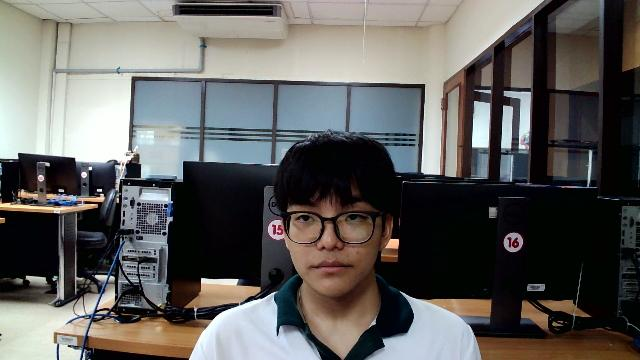fokus: (283, 177, 381, 297)
